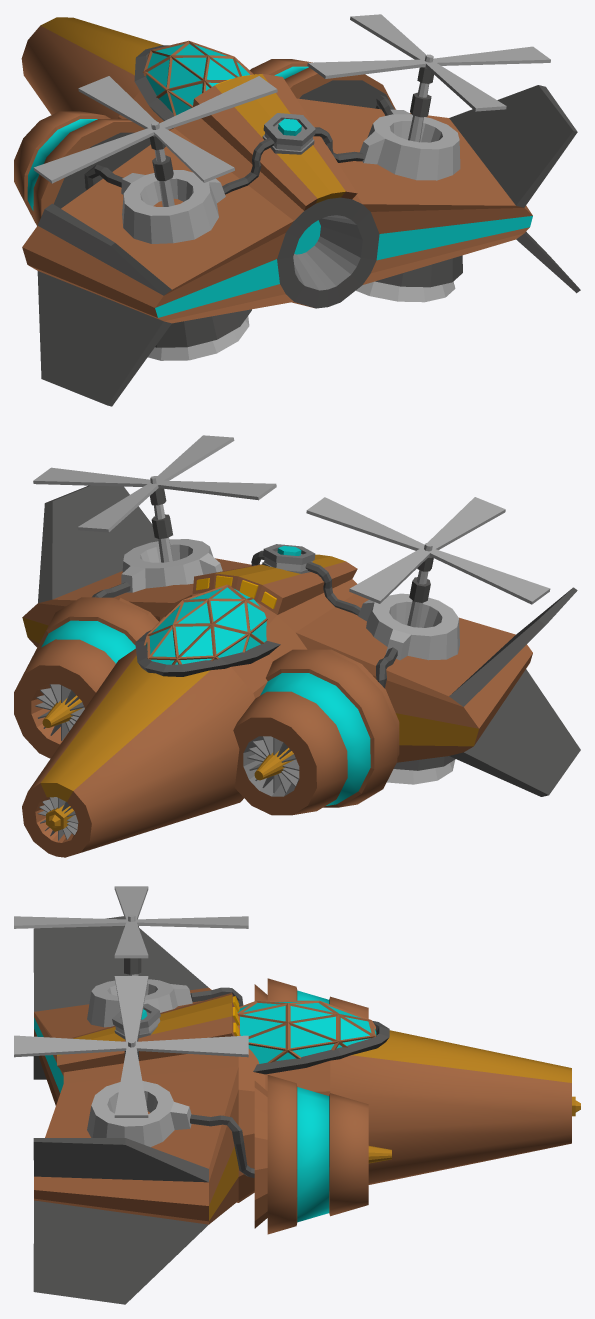
File: Fantasy_Ship.fbx
The picture shows the model from 3 angles, top to bottom: view 1: azimuth 30°, elevation 25°; view 2: azimuth 150°, elevation 25°; view 3: azimuth 270°, elevation 25°; orthographic projection. The views are drawn at different scales.
Visible parts, largest first — view 1: Icosphere.000; view 2: Icosphere.000; view 3: Icosphere.000.
Part boxes in pixels (x1,y1,x2,y2): Icosphere.000: (14,14,580,406); Icosphere.000: (14,435,580,857); Icosphere.000: (14,886,580,1304).
Bounding box in the file's own units: 1089 × 506 × 1125.
